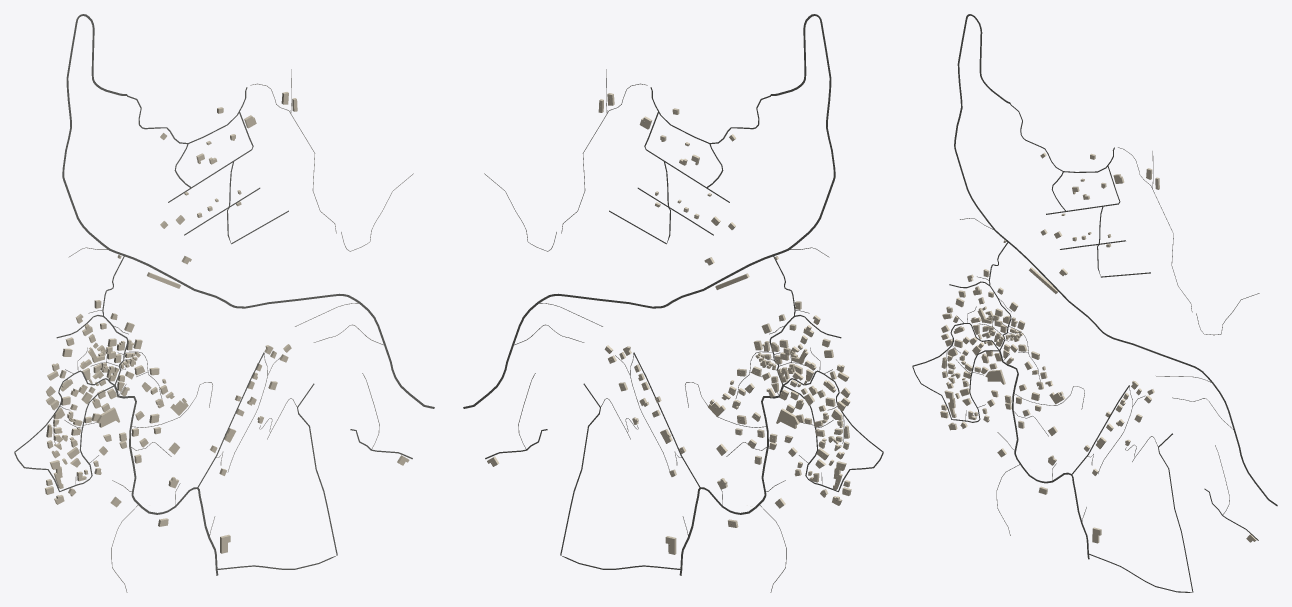
The model's file is historic-palestine-10_22_3516_3165.glb.
The picture shows the model from 3 angles, left to right: view 1: azimuth 30°, elevation 25°; view 2: azimuth 150°, elevation 25°; view 3: azimuth 330°, elevation 25°; orthographic projection. The views are drawn at different scales.
Parts seen in each view (by area): view 1: Road .002, Road Wadi An Nis-Umm Salamuna, Road; view 2: Road .002, Road Wadi An Nis-Umm Salamuna, Road; view 3: Road .002, Road Wadi An Nis-Umm Salamuna.
Boxes of the visible parts, bbox=[...] form: Road .002: bbox=[62, 14, 434, 408]; Road Wadi An Nis-Umm Salamuna: bbox=[114, 385, 218, 575]; Road: bbox=[217, 383, 337, 569]; Road .002: bbox=[463, 14, 835, 408]; Road Wadi An Nis-Umm Salamuna: bbox=[679, 385, 783, 575]; Road: bbox=[560, 383, 680, 569]; Road .002: bbox=[954, 14, 1277, 506]; Road Wadi An Nis-Umm Salamuna: bbox=[999, 351, 1089, 559].
Bounding box in the file's own units: 1114 × 1536 × 8.7.
